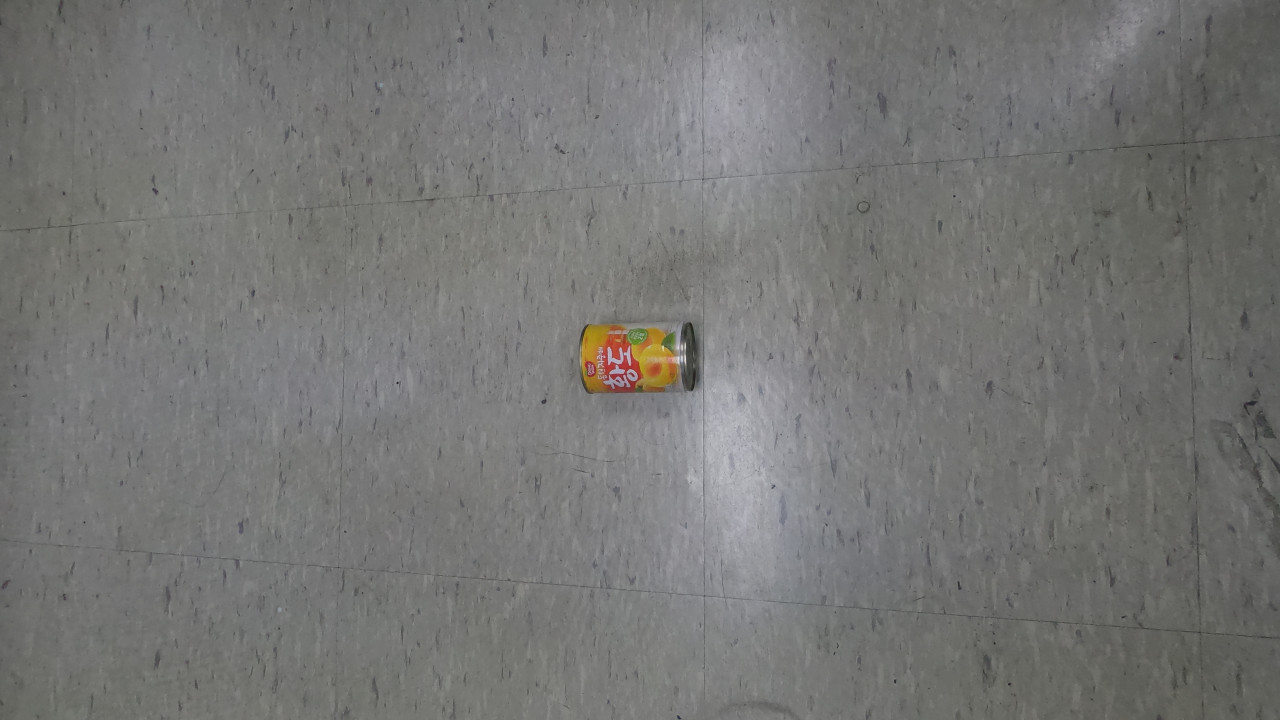c_3: (577, 325, 698, 388)
